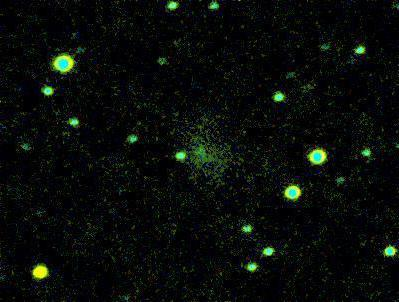star: (27, 258, 57, 288)
